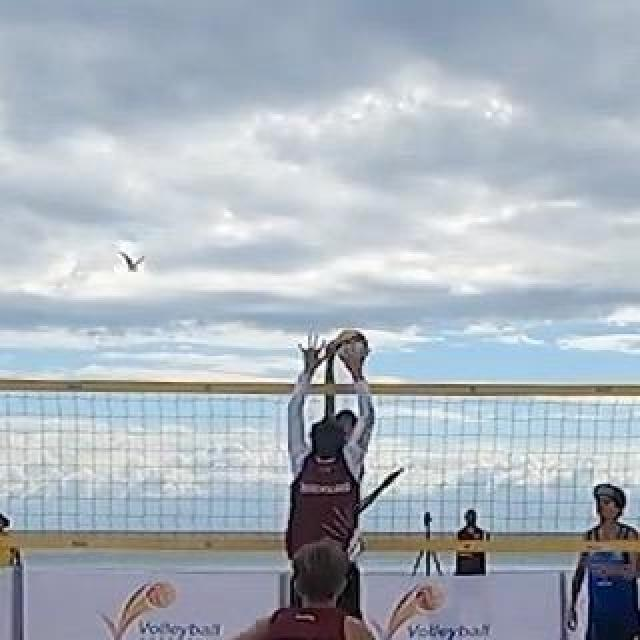volleyball: (335, 329, 367, 363)
